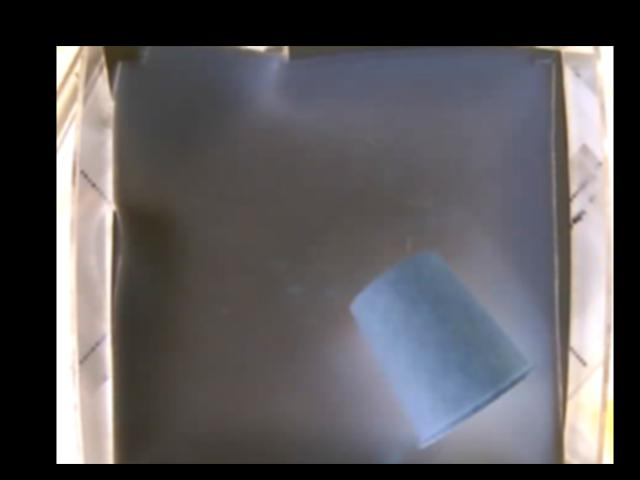Cup: (348, 252, 532, 448)
